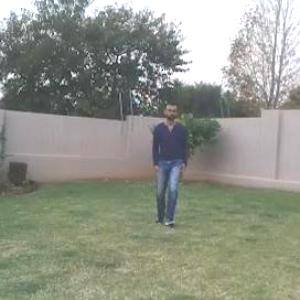follow: (148, 94, 189, 231)
